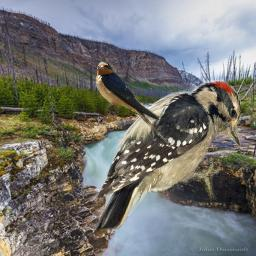Swallow: (95, 61, 169, 145)
Woodpecker: (79, 78, 241, 240)
